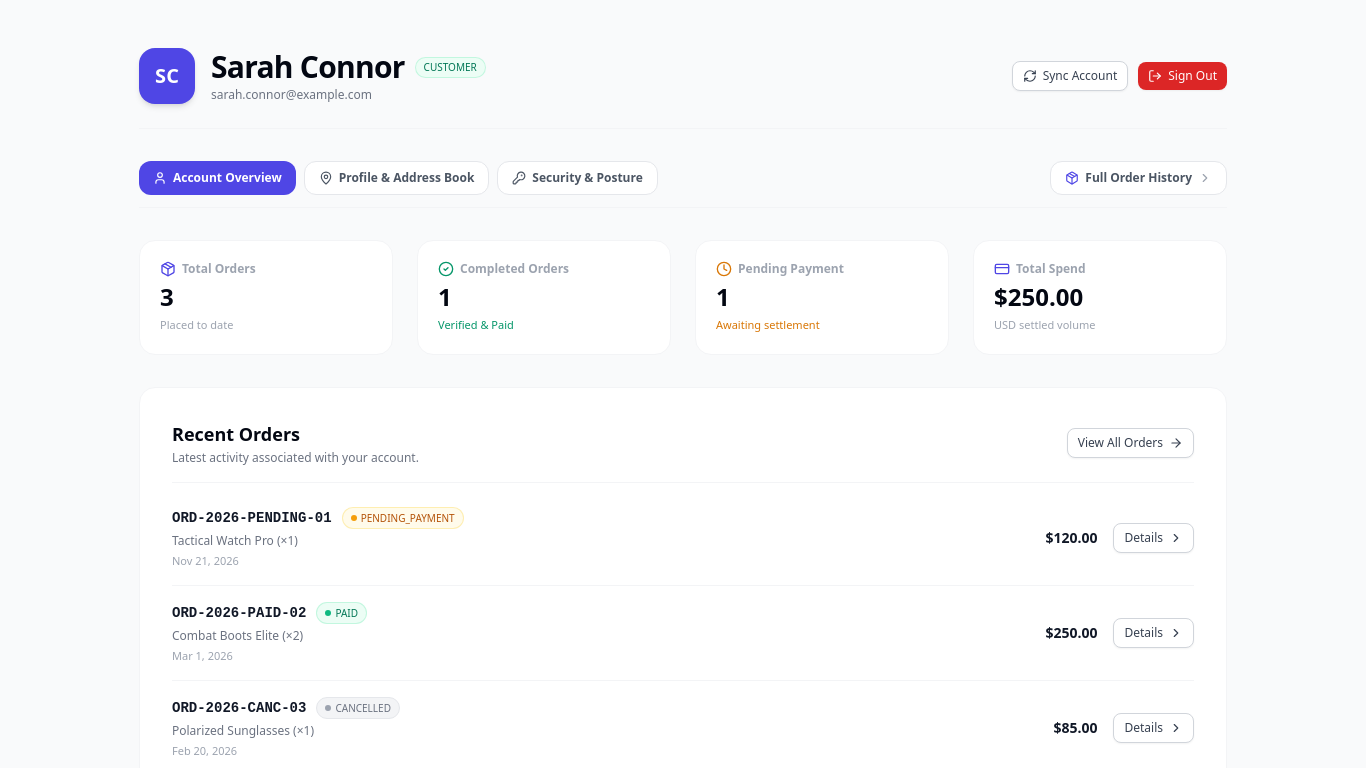
Test: Phase 7: User Dashboard and Order Management › Session Security & Role-Based Access Control › handles RBAC unauthorized check gracefully for regular customer
Click the button "Security & Posture" at (578, 178), box [497,161,658,195]
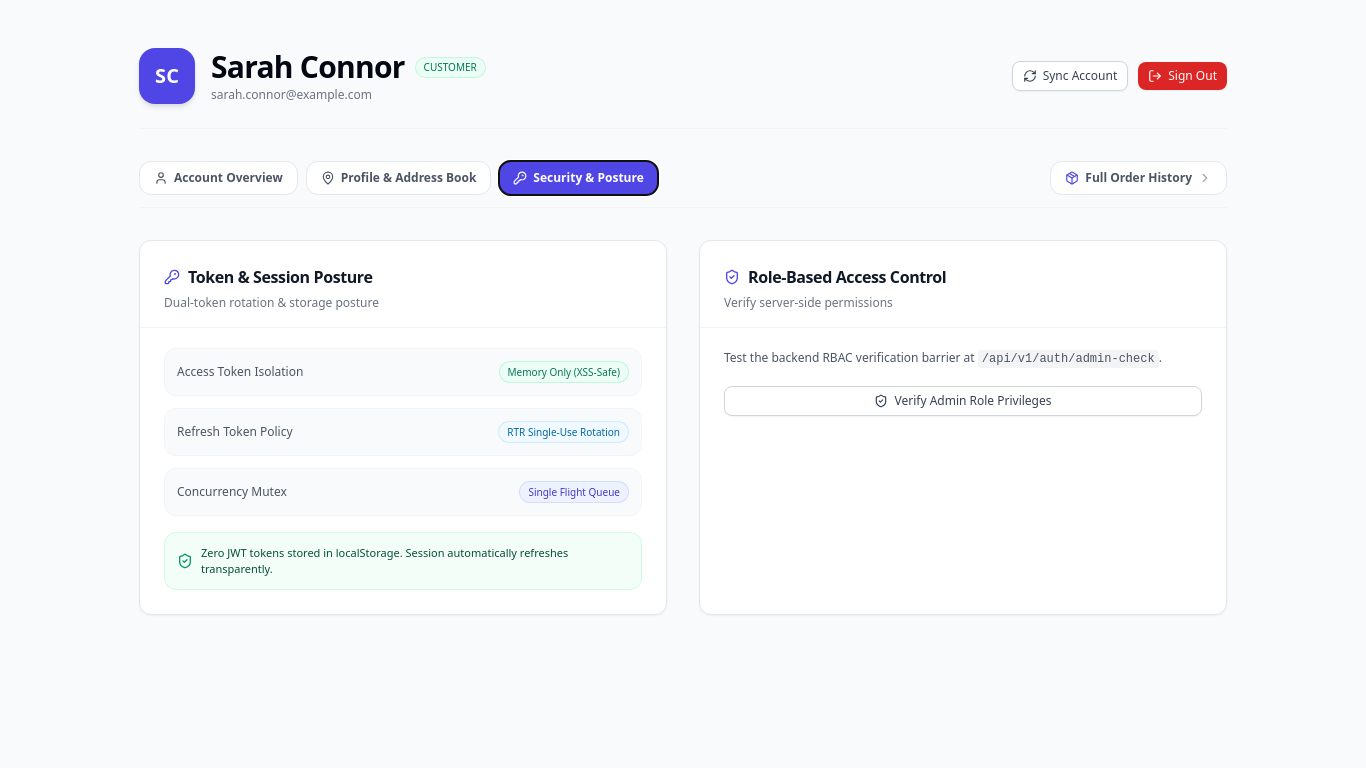
Click the button "Verify Admin Role Privileges" at (963, 400), box [724,386,1202,416]
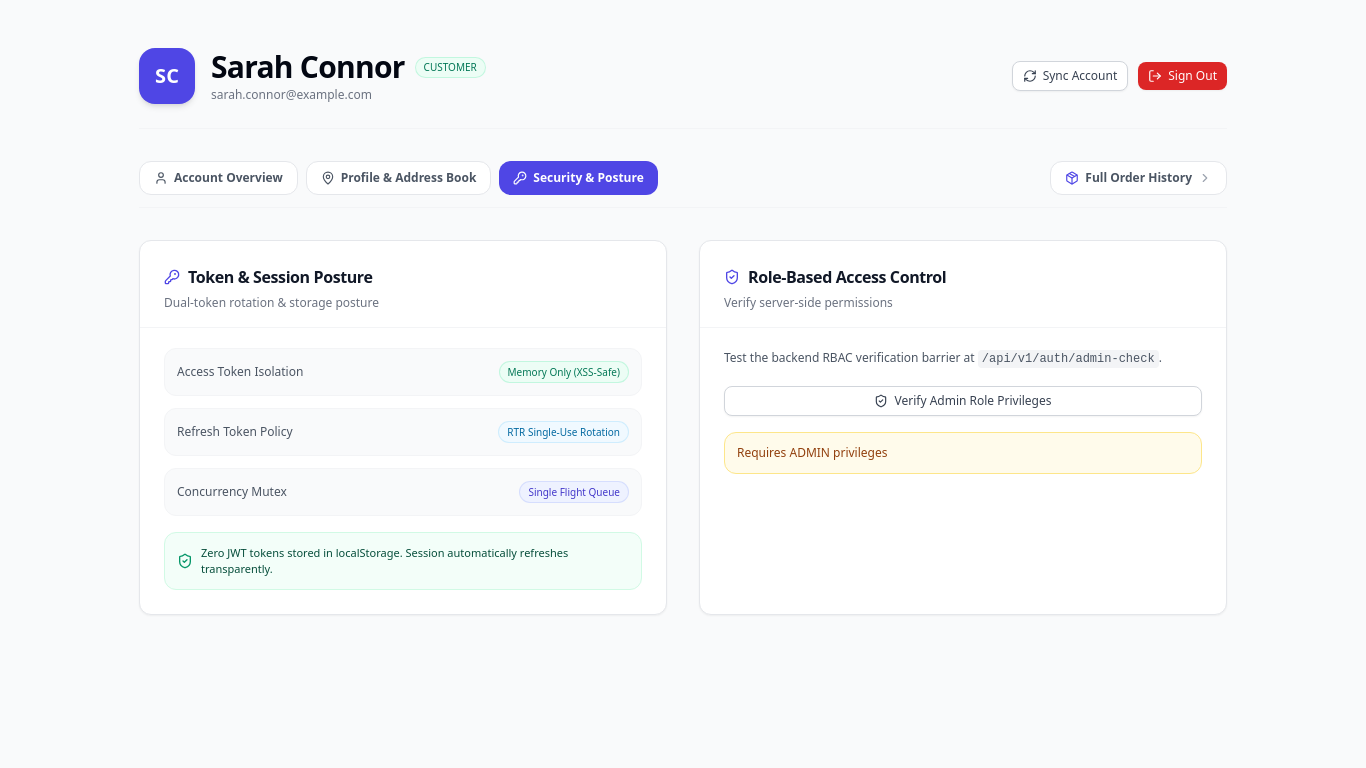
Expected: the text "Requires ADMIN privileges" is shown, [724,432,1202,474]
